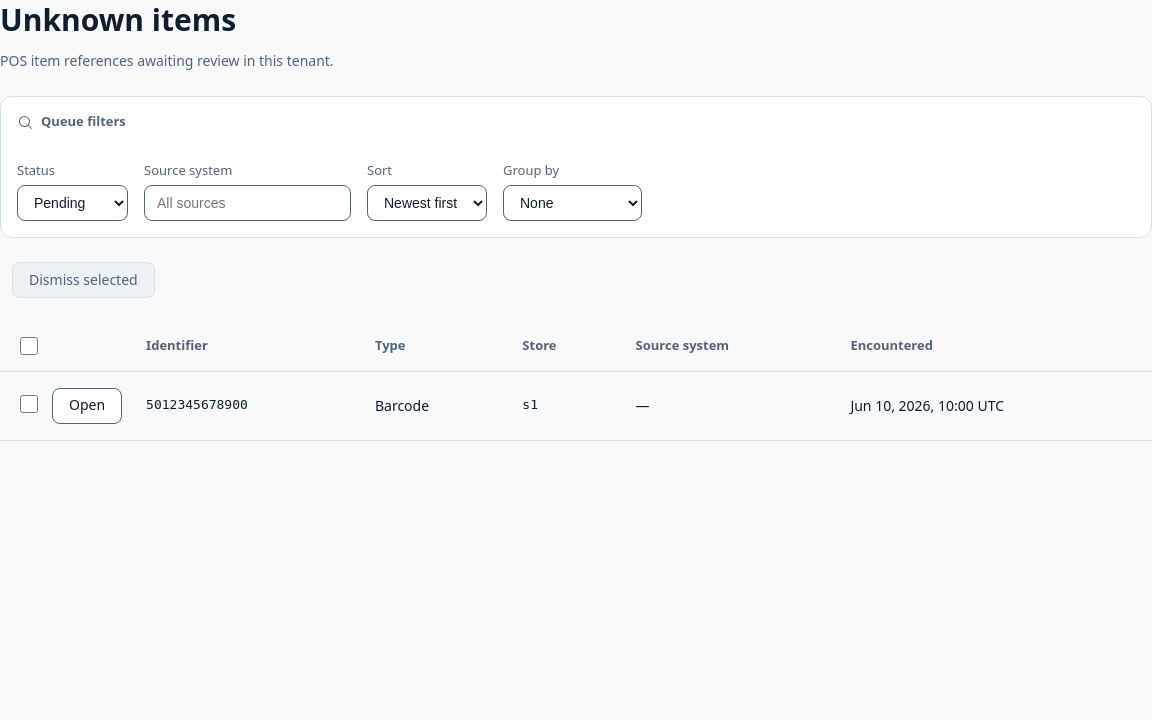
the link step › is offered on a pending item and opens the picker for the active tenant
What coordinates should you click on to do the following:
click the button with aria-label "Open 5012345678900"
I would click on:
 (87, 406)
Its box is [52, 388, 122, 424].
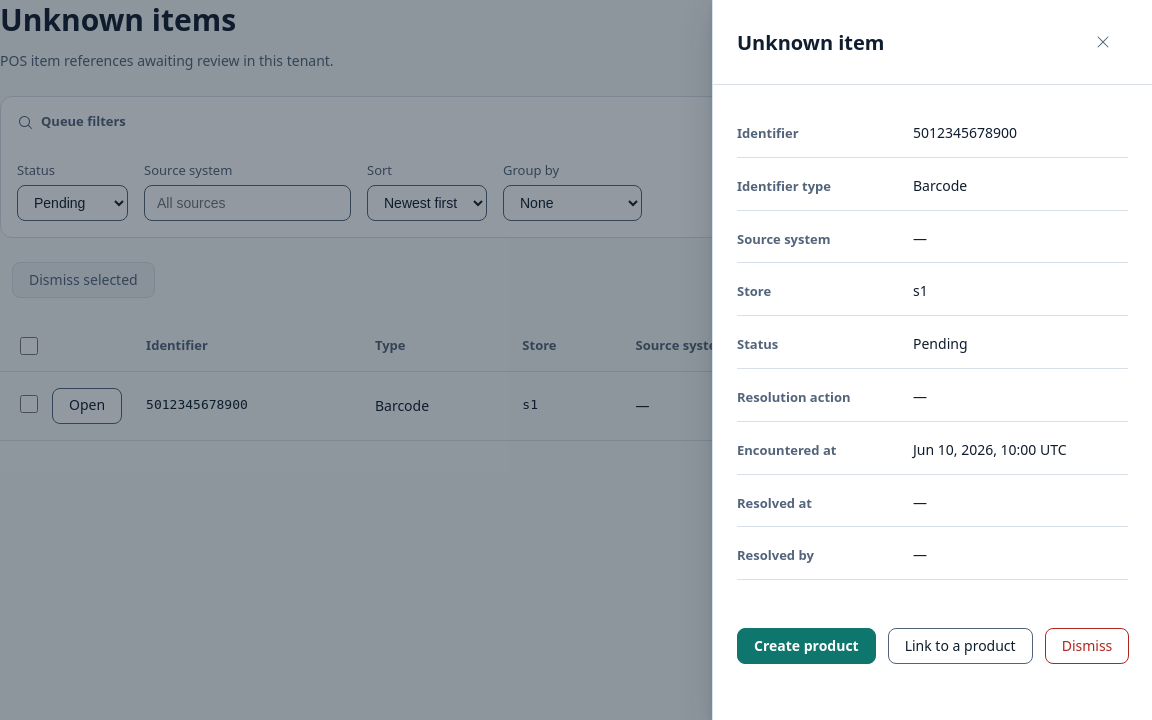
Expected: the dialog "Unknown item" shows "Identifier type", [737, 177, 831, 195]
What coordinates should you click on to do the following:
click the button "Link to a product"
I would click on:
 (960, 646)
Its box is [888, 628, 1033, 664].
(page scrolled)
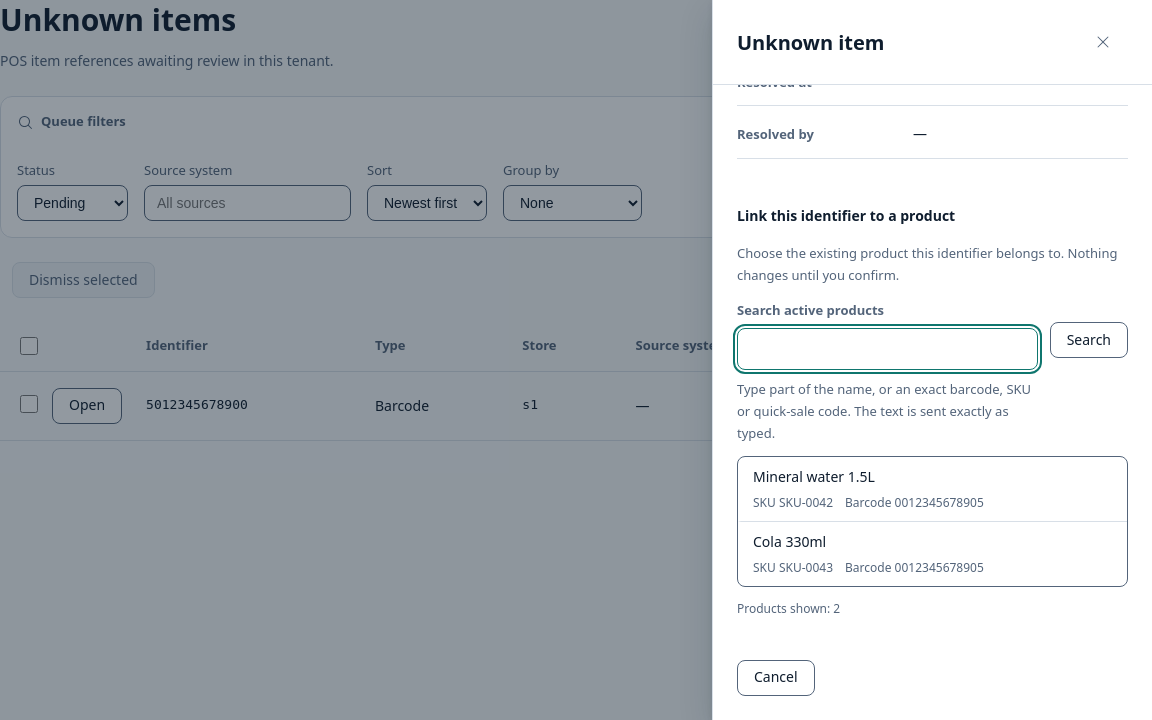
Expected: the list named "Active products" is shown, [737, 456, 1128, 587]
